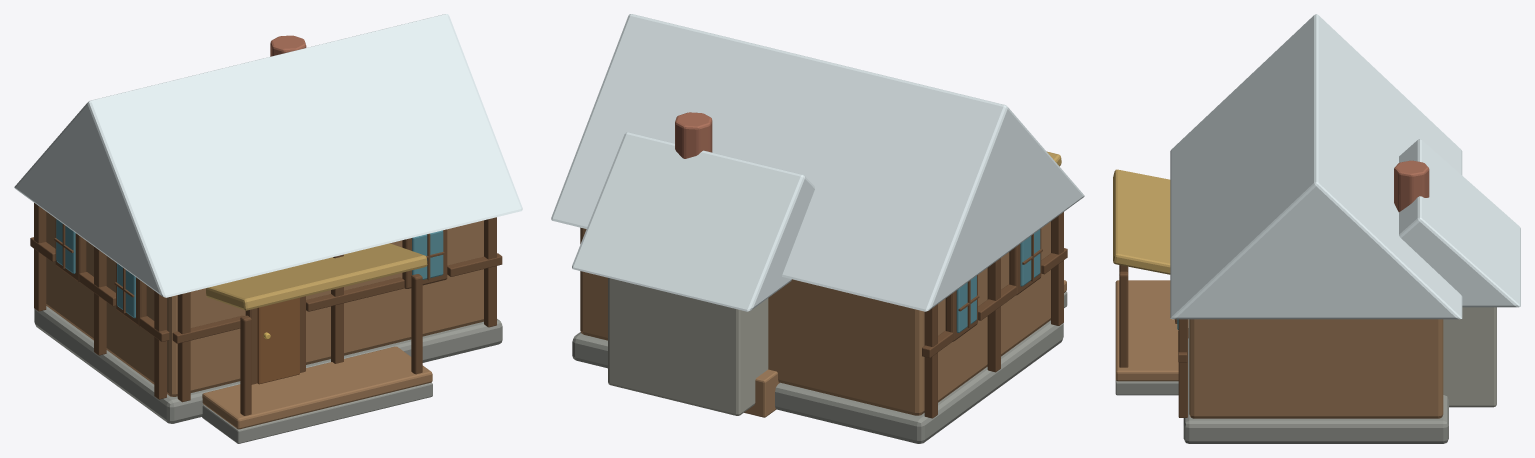
The model's file is snowy-farmstead-3.glb.
3 renders of one model, left to right at view 1: azimuth 30°, elevation 25°; view 2: azimuth 150°, elevation 25°; view 3: azimuth 270°, elevation 25°, orthographic. The views are drawn at different scales.
Visible parts, largest first — view 1: Snow, Aged oak, Dark beams, Foundation stone, Golden thatch, Door oak, Blue glass, Chimney brick; view 2: Snow, Aged oak, Fieldstone, Foundation stone, Dark beams, Blue glass, Chimney brick; view 3: Snow, Aged oak, Foundation stone, Golden thatch, Fieldstone, Dark beams, Chimney brick.
Part boxes in pixels (left/top/right/bottom): Snow: left=14, top=14, right=522, bottom=297; Aged oak: left=46, top=212, right=483, bottom=429; Dark beams: left=30, top=203, right=502, bottom=415; Foundation stone: left=34, top=306, right=502, bottom=443; Golden thatch: left=206, top=243, right=427, bottom=310; Door oak: left=257, top=297, right=299, bottom=384; Blue glass: left=56, top=219, right=443, bottom=317; Chimney brick: left=270, top=35, right=306, bottom=56; Snow: left=551, top=14, right=1084, bottom=311; Aged oak: left=580, top=221, right=1066, bottom=417; Fieldstone: left=608, top=278, right=768, bottom=415; Foundation stone: left=572, top=292, right=1067, bottom=443; Dark beams: left=922, top=212, right=1067, bottom=418; Blue glass: left=956, top=229, right=1040, bottom=332; Chimney brick: left=675, top=112, right=712, bottom=158; Snow: left=1170, top=14, right=1520, bottom=319; Aged oak: left=1115, top=280, right=1443, bottom=418; Foundation stone: left=1115, top=319, right=1448, bottom=443; Golden thatch: left=1113, top=169, right=1170, bottom=274; Fieldstone: left=1443, top=307, right=1496, bottom=407; Dark beams: left=1119, top=265, right=1188, bottom=417; Chimney brick: left=1394, top=160, right=1429, bottom=211.
Size of the model in its own units: 4.44 by 3.27 by 4.49.
